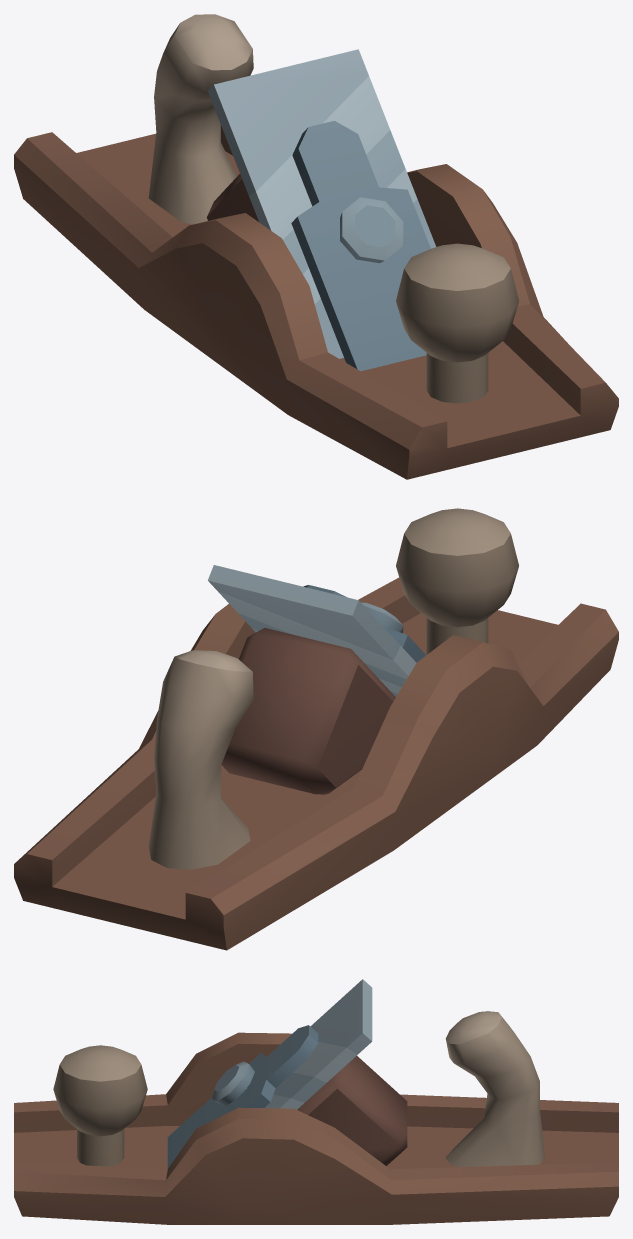
File: handplane.glb
The picture shows the model from 3 angles, top to bottom: view 1: azimuth 30°, elevation 25°; view 2: azimuth 150°, elevation 25°; view 3: azimuth 270°, elevation 25°; orthographic projection. The views are drawn at different scales.
Visible parts, largest first — view 1: handplane; view 2: handplane; view 3: handplane.
Boxes of the visible parts, box(x1,y1,x2,y2) form: handplane: box(14, 14, 618, 479); handplane: box(14, 508, 618, 950); handplane: box(14, 979, 618, 1224).
Size of the model in its own units: 0.3966 by 0.3417 by 1.06.
Materials: 1 (1 with a texture image).
